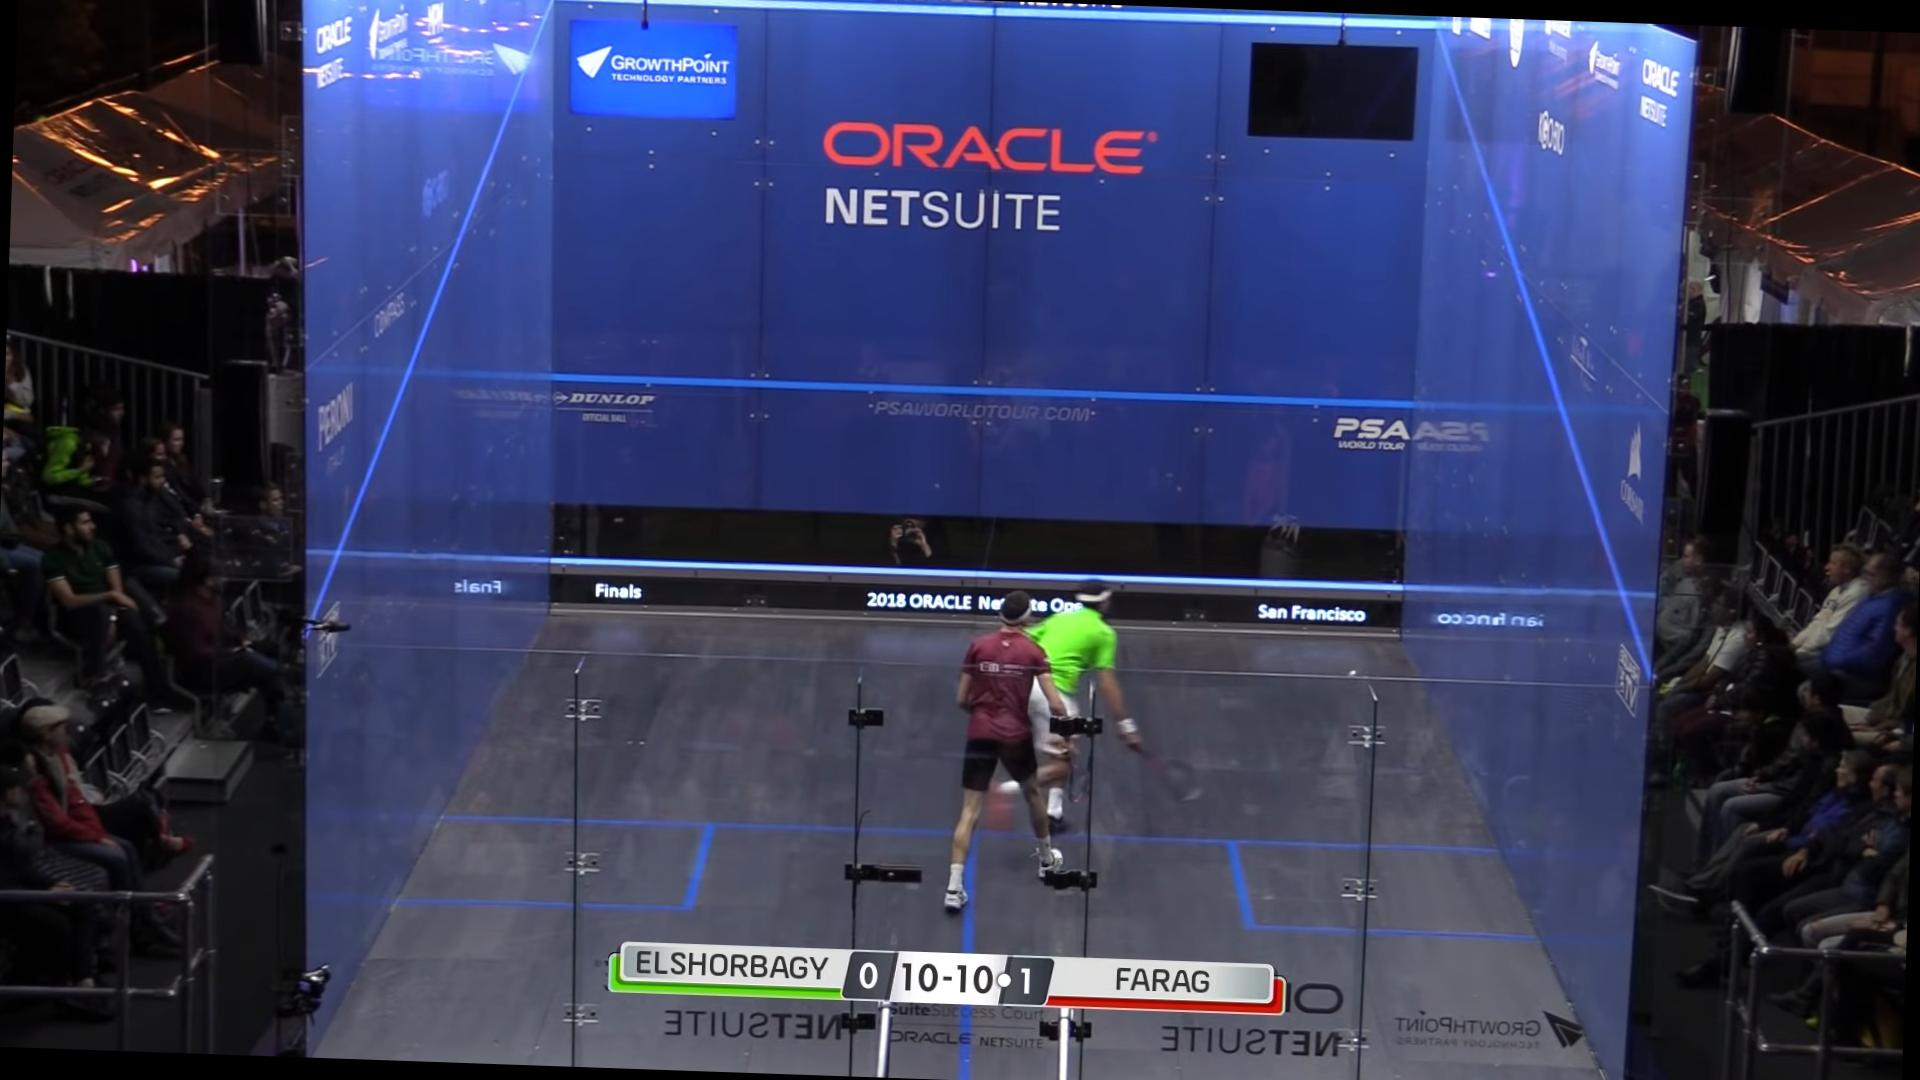Squash-Ball: (1345, 662, 1360, 679)
